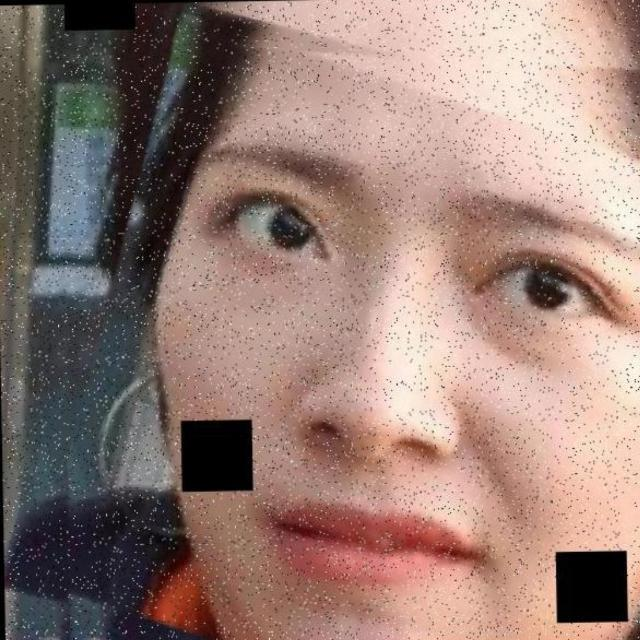natural: (101, 63, 640, 635)
